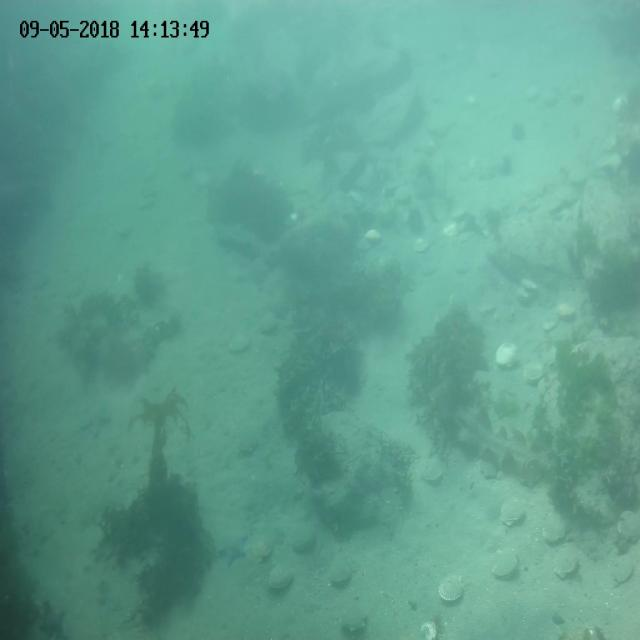scallop: (541, 510, 571, 546), (438, 566, 464, 606), (489, 548, 520, 580), (340, 603, 370, 636), (616, 507, 640, 548), (498, 495, 528, 527), (553, 546, 579, 582), (267, 561, 296, 589), (290, 523, 317, 551), (495, 337, 519, 368), (237, 426, 259, 456), (477, 455, 502, 480), (252, 534, 276, 560), (522, 360, 546, 385), (327, 564, 353, 585), (421, 463, 444, 486), (440, 217, 460, 241), (227, 335, 250, 355), (555, 298, 575, 321), (614, 560, 633, 580), (540, 314, 560, 333), (419, 619, 437, 640), (411, 236, 432, 254), (363, 227, 382, 243), (519, 275, 537, 290)
starfish: (215, 528, 249, 567), (77, 404, 110, 439), (39, 599, 68, 637)
